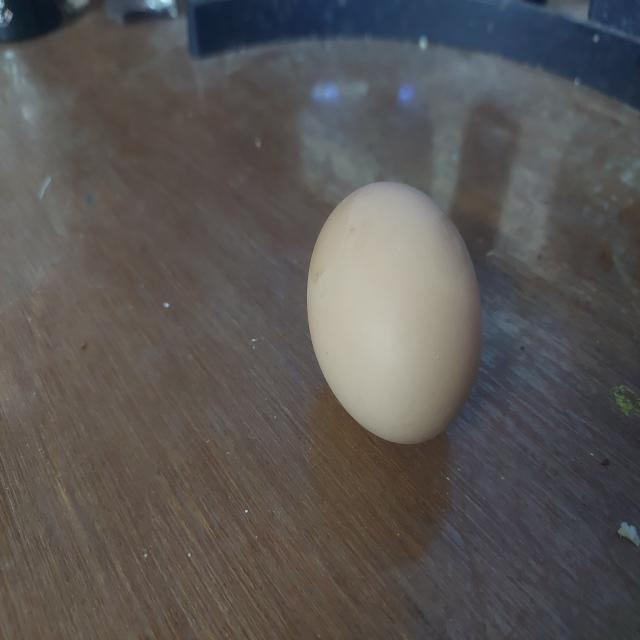egg: (302, 174, 486, 450)
